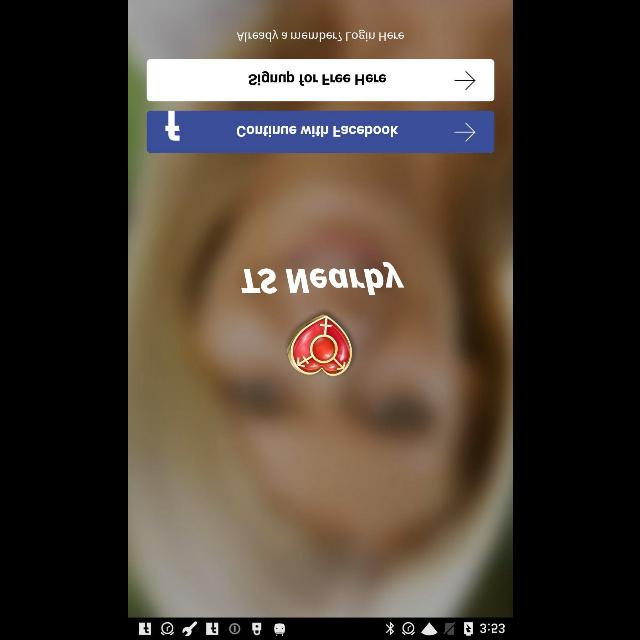backgroundimage: (128, 0, 512, 618)
image: (286, 314, 352, 376)
text: (240, 261, 404, 295), (236, 30, 404, 42)
textbutton: (146, 111, 494, 153), (146, 59, 494, 101)
uppertaskbar: (128, 617, 512, 639)
